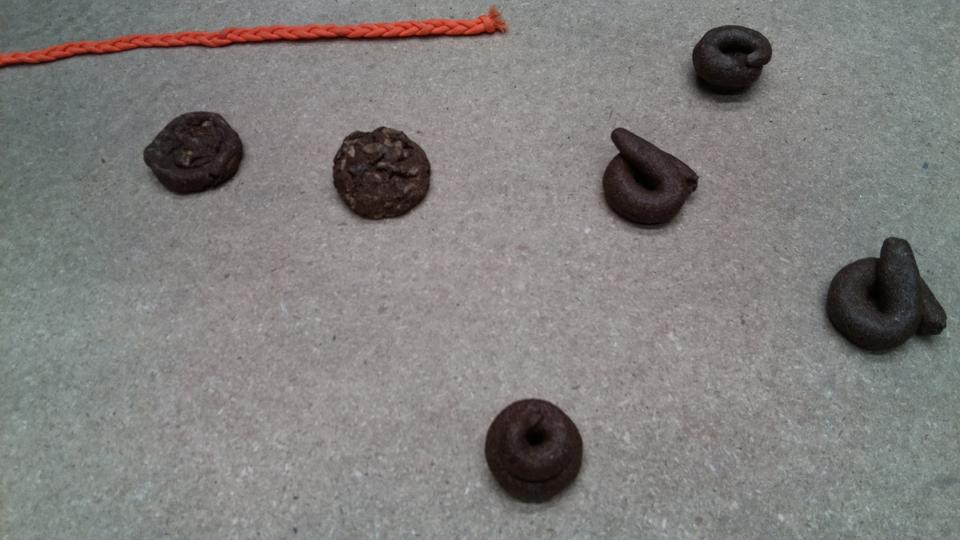poop: (820, 234, 950, 358), (482, 396, 587, 510), (328, 121, 438, 225), (600, 125, 702, 234), (138, 105, 248, 201), (689, 21, 775, 102)
rope: (1, 9, 511, 72)
